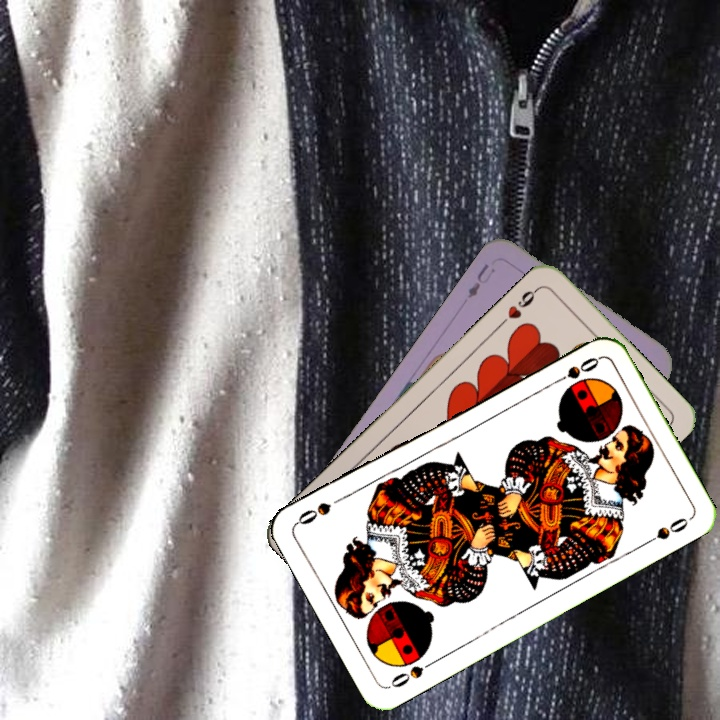EU: (463, 259, 495, 301)
H9: (495, 283, 542, 329)
SO: (385, 655, 439, 691), (548, 353, 602, 388)
